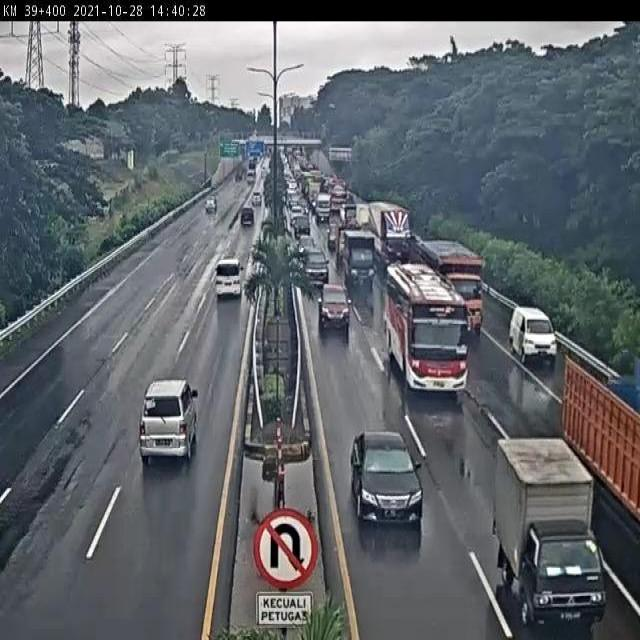big bus: (383, 263, 470, 393)
car: (349, 430, 425, 526), (139, 377, 197, 460), (509, 304, 557, 363), (319, 283, 350, 328), (214, 258, 246, 298), (304, 244, 330, 284), (240, 207, 259, 228)
mid truck: (419, 238, 481, 330)
small truck: (496, 437, 602, 628), (339, 229, 375, 283)
